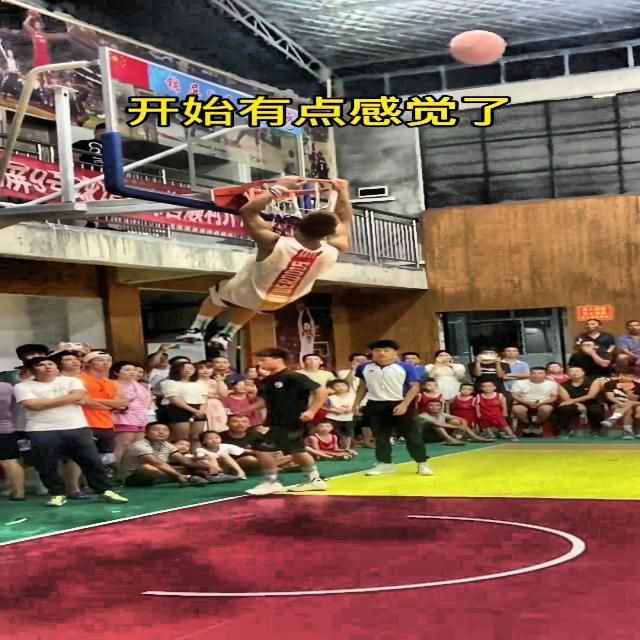board: (450, 30, 504, 66)
rim: (212, 176, 348, 228)
